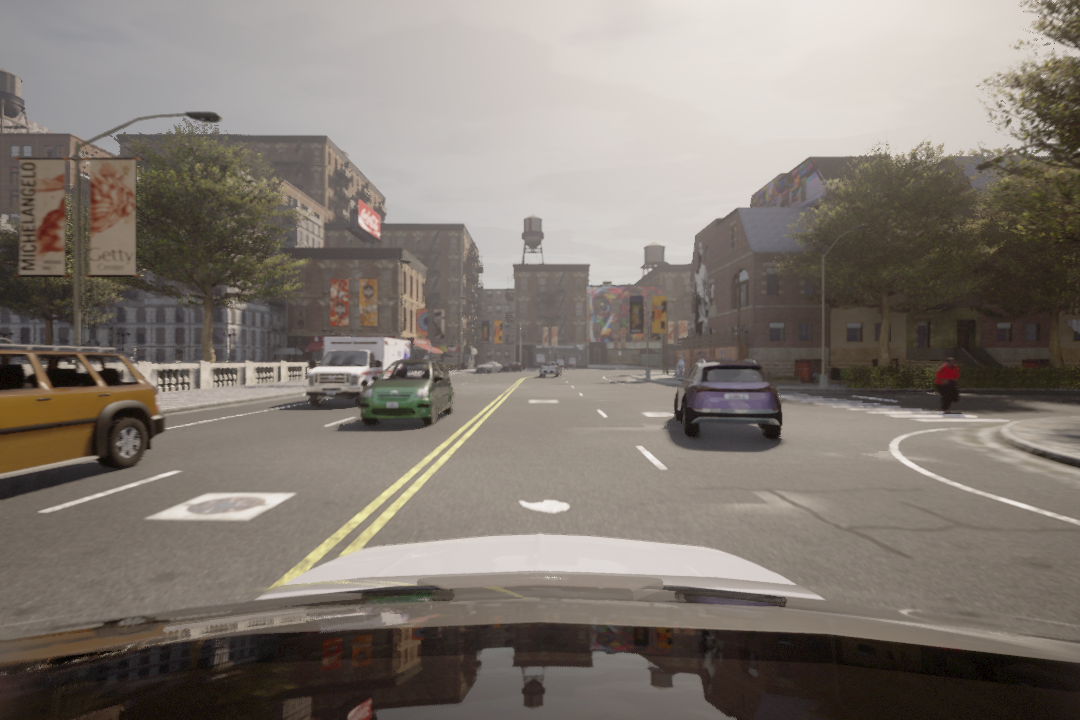walkside: (777, 394, 1017, 428)
